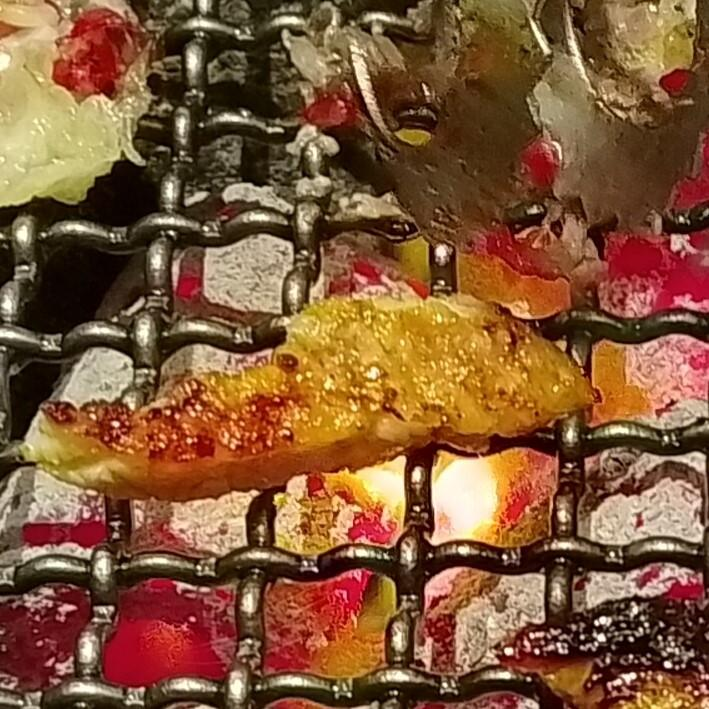Overcooked: (288, 23, 564, 250), (528, 0, 708, 243), (501, 587, 708, 708)
Undercooked: (0, 0, 154, 213)
Well-Cooked: (22, 293, 600, 505)
